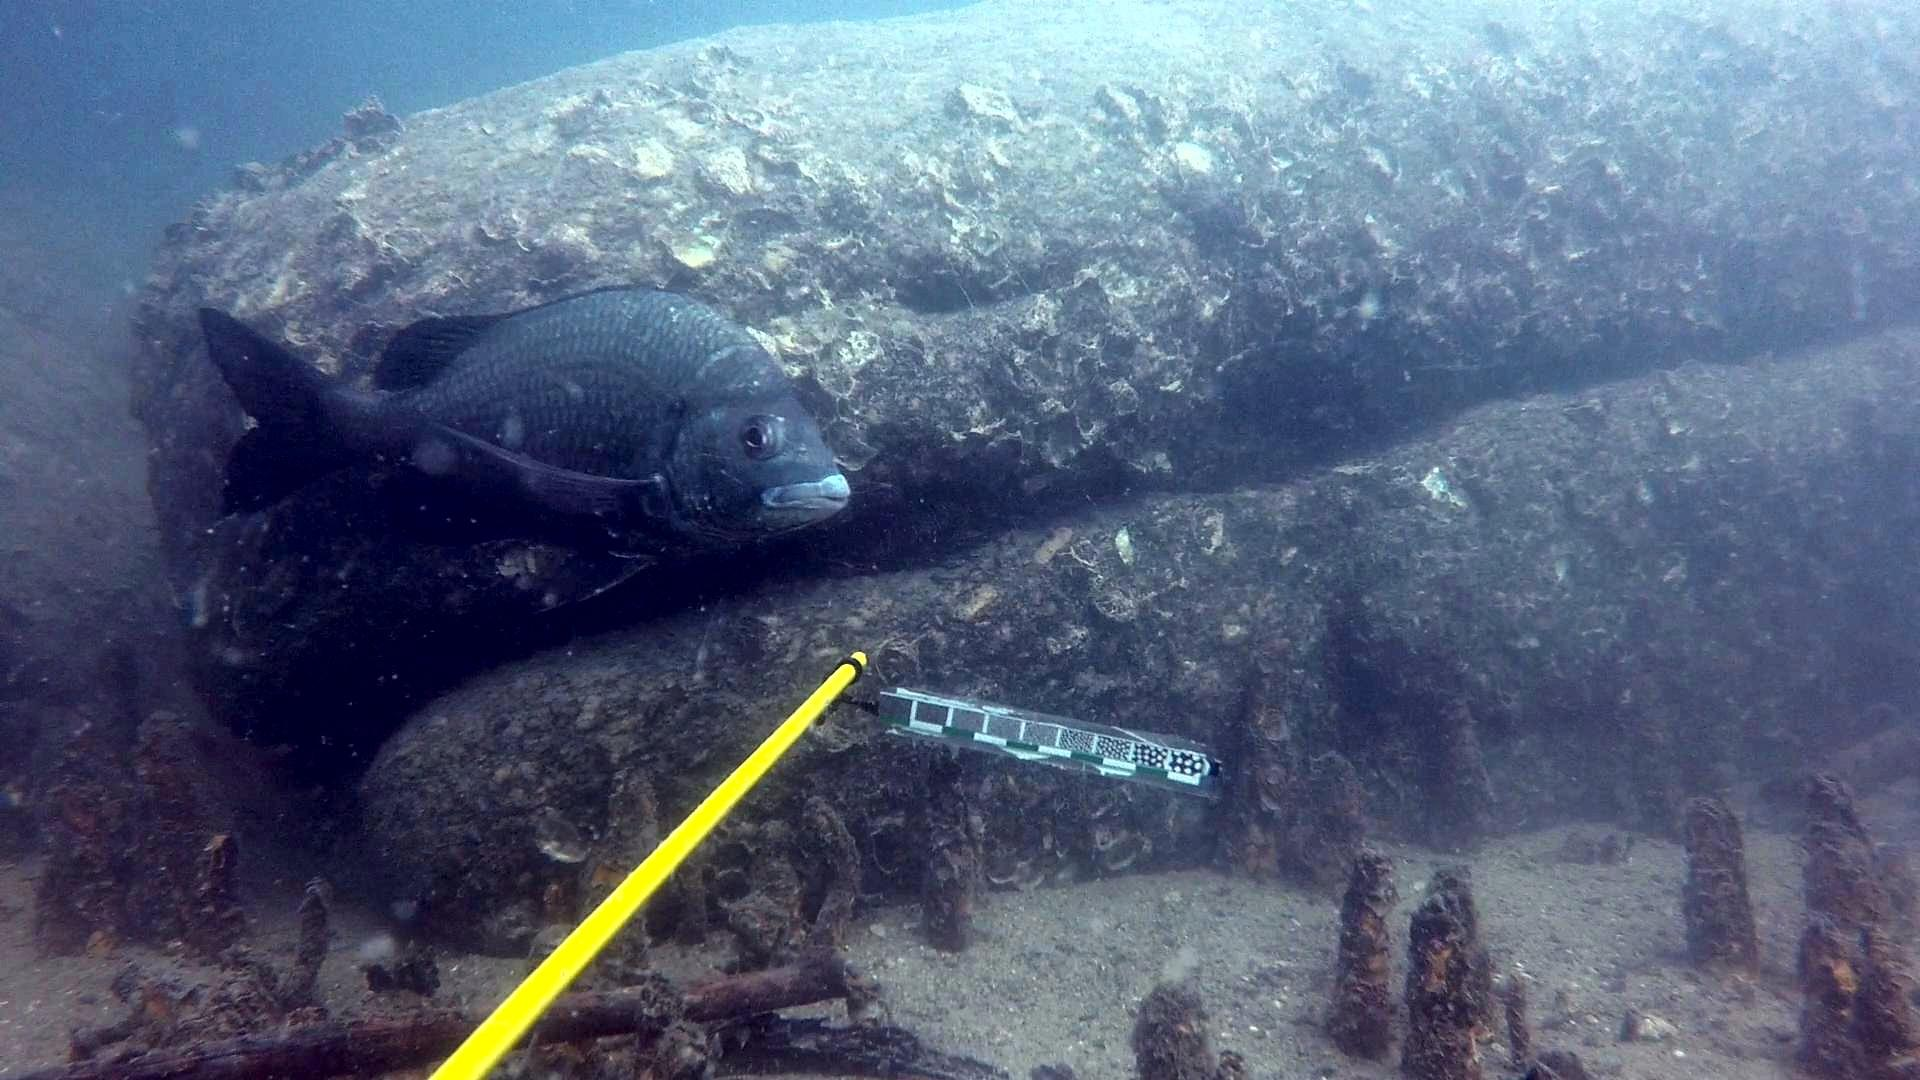acanthopagrus palmaris: (194, 273, 868, 607)
